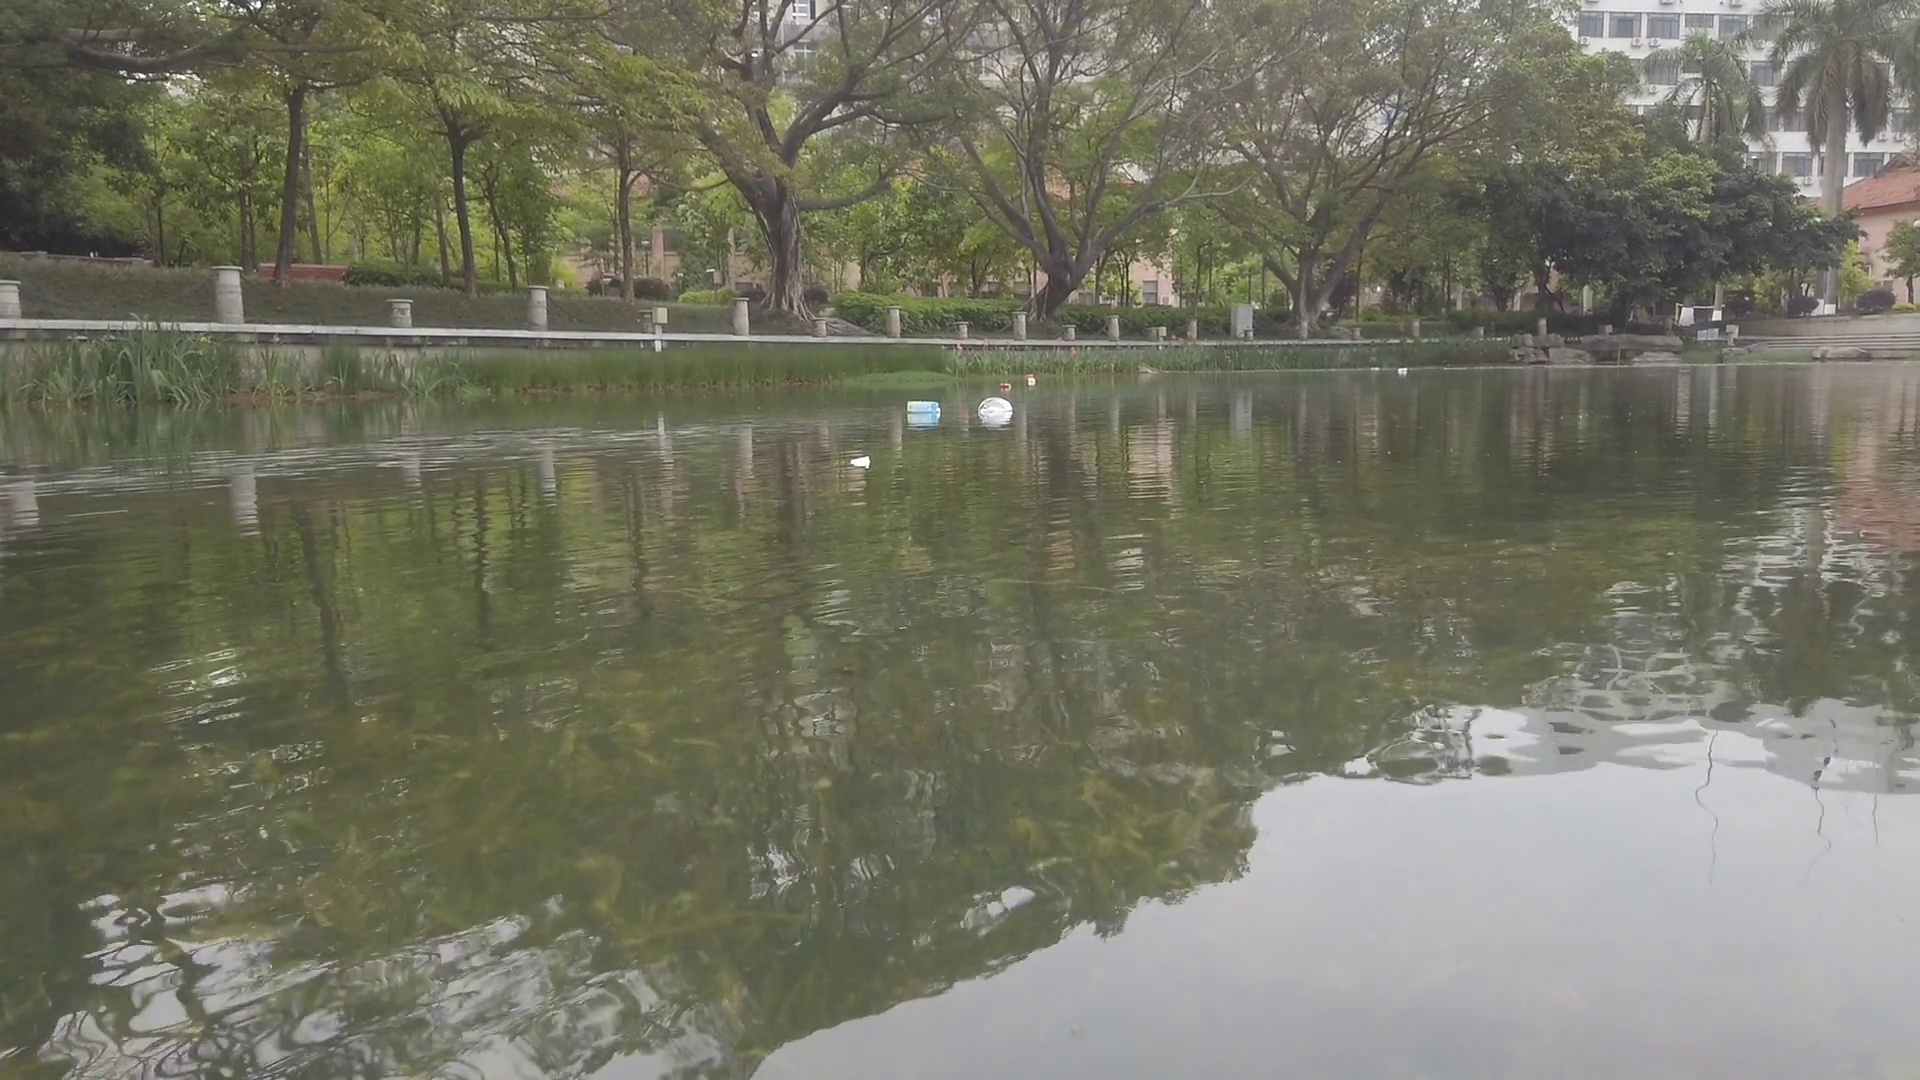bottle: (1395, 367, 1410, 376), (1000, 382, 1011, 389), (1370, 367, 1379, 373)
carton: (909, 400, 943, 414), (852, 455, 872, 467), (1026, 375, 1036, 384)
plastic: (978, 396, 1014, 421)
